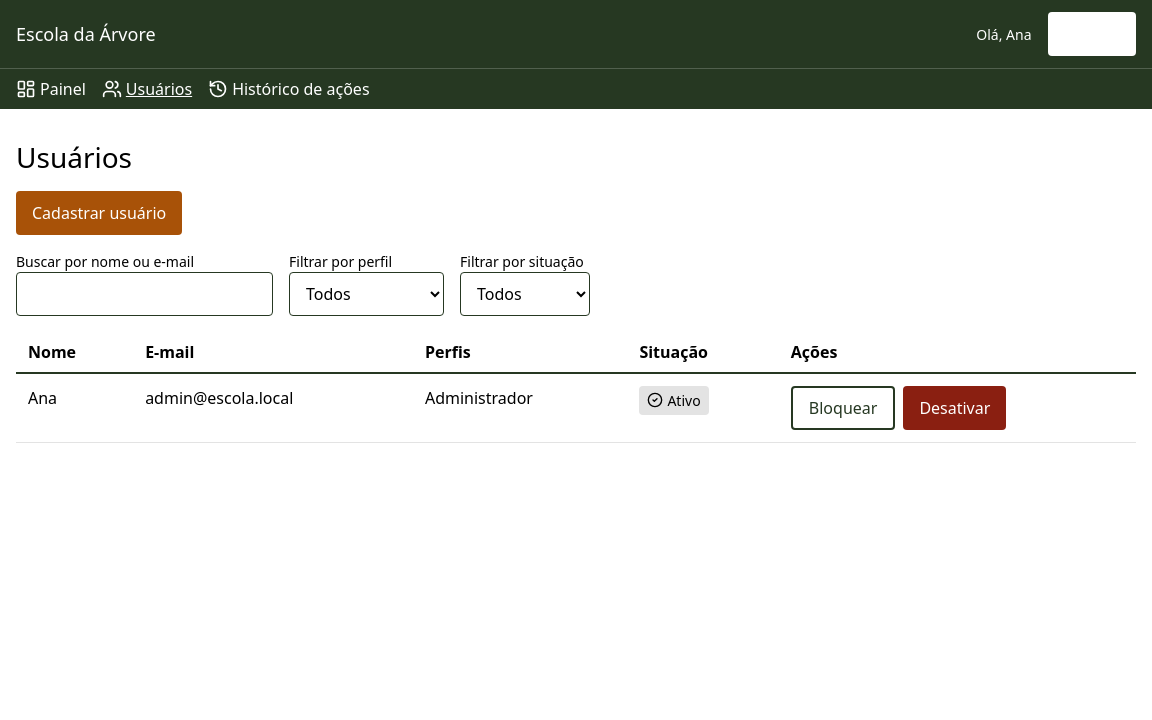
Test case: US5 — proteção do último administrador › desativar o único administrador ativo é recusado com explicação
Expected: the text "Ana" is shown, [16, 373, 133, 442]
Click the button "Desativar". click: [955, 408]
box: [903, 386, 1006, 430]
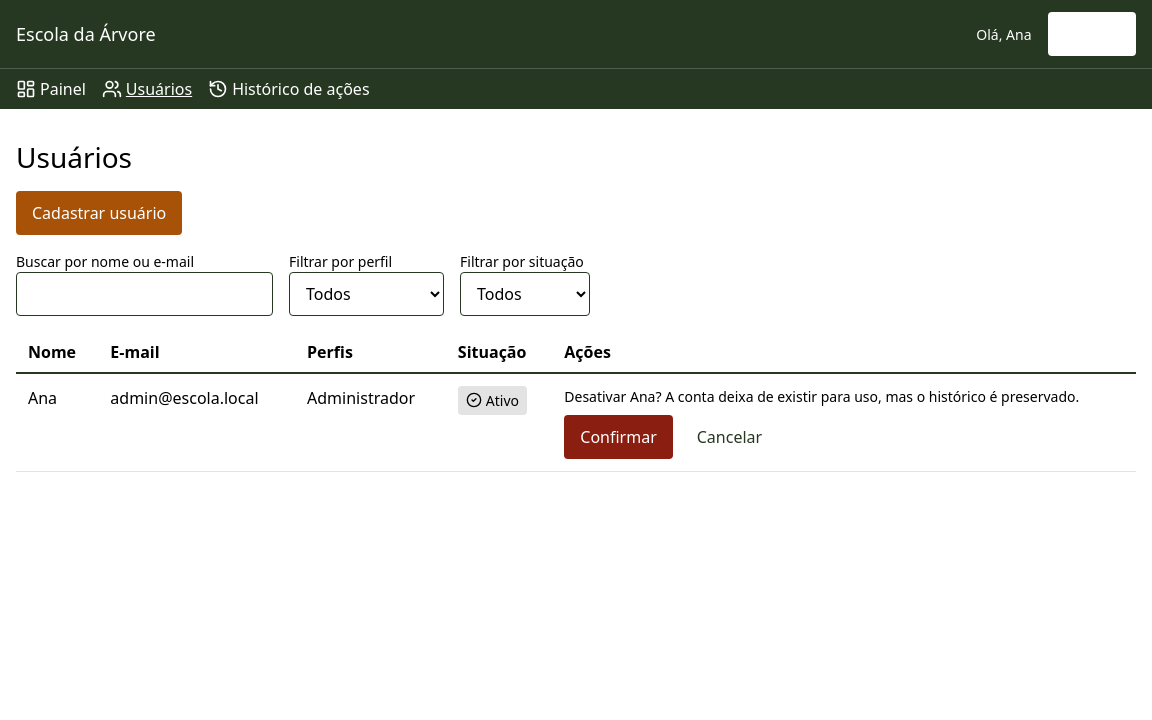
Click the button "Confirmar". click: [619, 437]
box: [564, 415, 673, 459]
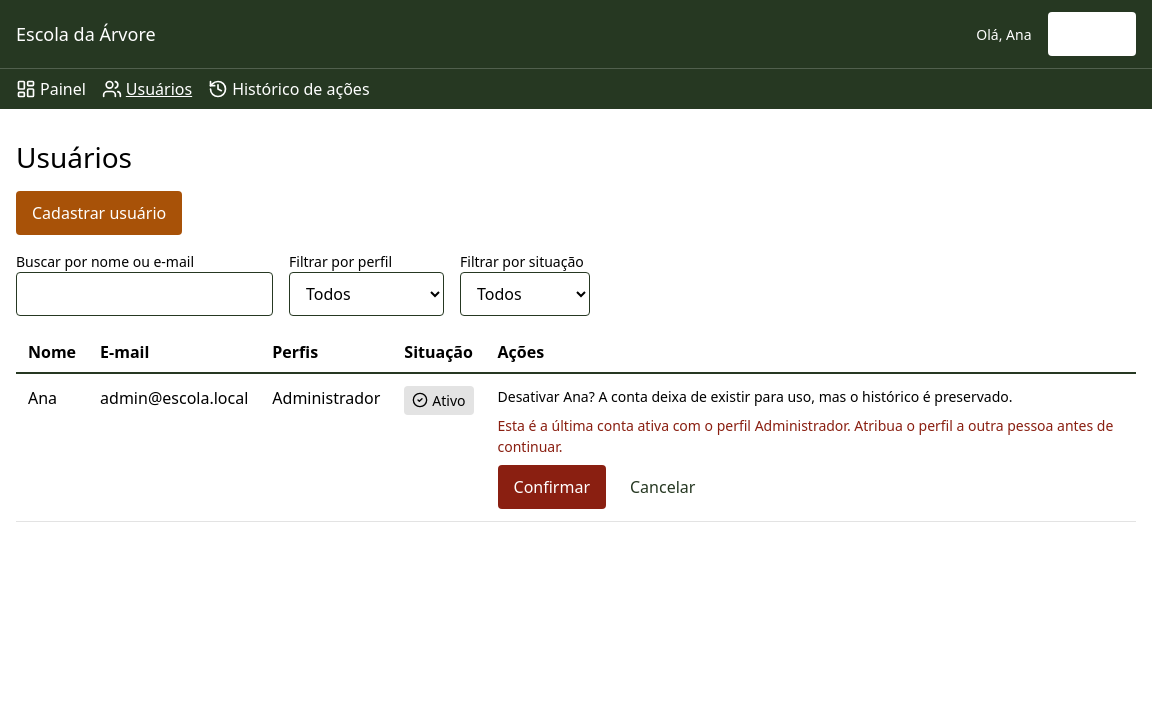
Expected: the text "Ativo" is shown, [404, 386, 474, 415]
Expected: the text "Esta é a última conta ativa com o perfil Administrador. Atribua o perfil a outra pessoa antes de continuar." is shown, [498, 416, 1113, 456]
